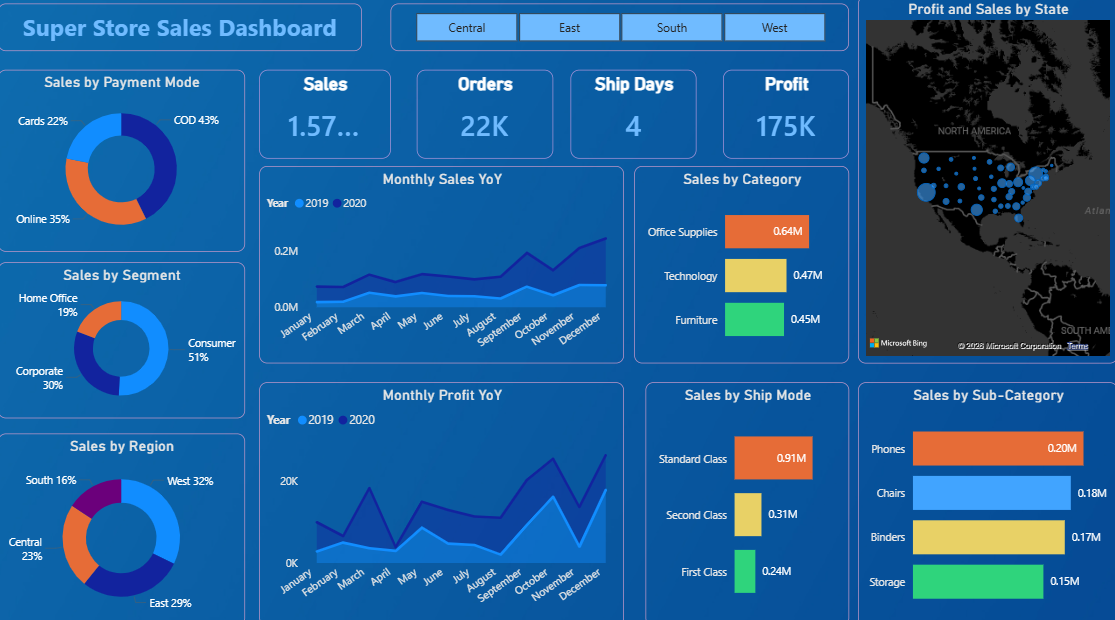

The page's visual inventory and layout, read from the dashboard file:
{"tool":"powerbi","page":{"name":"Page 1","canvas":[1280,720],"ordinal":0},"visuals":[{"type":"clusteredBarChart","title":"Sales by Category","fields":{"Category":["Sheet1 (2).Category"],"Y":["Sum(Sheet1 (2).Sales)"]},"box":[727.1,194.3,245.7,225.7],"z":0},{"type":"clusteredBarChart","title":"Sales by Sub-Category","fields":{"Category":["Sheet1 (2).Sub-Category"],"Y":["Sum(Sheet1 (2).Sales)"]},"box":[982.9,441.4,297.1,278.6],"z":1000},{"type":"clusteredBarChart","title":"Sales by Ship Mode","fields":{"Category":["Sheet1 (2).Ship Mode"],"Y":["Sum(Sheet1 (2).Sales)"]},"box":[740,441.4,232.9,278.6],"z":2000},{"type":"stackedAreaChart","title":"Monthly Sales YoY","fields":{"Category":["Sheet1 (2).Order Date.Variation.Date Hierarchy.Month"],"Y":["Sum(Sheet1 (2).Sales)"],"Series":["Sheet1 (2).Order Date.Variation.Date Hierarchy.Year"]},"box":[298.6,194.3,417.1,225.7],"z":3000},{"type":"stackedAreaChart","title":"Monthly Profit YoY","fields":{"Category":["Sheet1 (2).Order Date.Variation.Date Hierarchy.Month"],"Series":["Sheet1 (2).Order Date.Variation.Date Hierarchy.Year"],"Y":["Sum(Sheet1 (2).Profit)"]},"box":[298.6,441.4,417.1,278.6],"z":4000},{"type":"map","title":"Profit and Sales by State","fields":{"Category":["Sheet1 (2).State"],"Size":["Sum(Sheet1 (2).Sales)"]},"box":[982.9,0,297.1,420],"z":5000},{"type":"donutChart","title":"Sales by Segment","fields":{"Category":["Sheet1 (2).Segment"],"Y":["CountNonNull(Sheet1 (2).State)"]},"box":[0,304,282,178],"z":6000},{"type":"donutChart","title":"Sales by Payment Mode","fields":{"Category":["Sheet1 (2).Payment Mode"],"Y":["Sum(Sheet1 (2).Sales)"]},"box":[0,84,282,208],"z":7000},{"type":"slicer","fields":{"Values":["Sheet1 (2).Region"]},"box":[448.6,8.6,524.3,54.3],"z":8000},{"type":"textbox","box":[0,8,416,54],"z":9000},{"type":"cardVisual","title":"Sales","fields":{"Data":["Sum(Sheet1 (2).Sales)"]},"box":[298.6,84.3,150,101.4],"z":10000},{"type":"cardVisual","title":"Orders","fields":{"Data":["Sum(Sheet1 (2).Quantity)"]},"box":[478.6,84.3,155.7,101.4],"z":11000},{"type":"cardVisual","title":"Profit","fields":{"Data":["Sum(Sheet1 (2).Profit)"]},"box":[828.6,84.3,144.3,101.4],"z":12000},{"type":"cardVisual","title":"Ship Days","fields":{"Data":["Avg(Sheet1 (2).AvgDelivery)"]},"box":[654.3,84.3,144.3,101.4],"z":13000},{"type":"donutChart","title":"Sales by Region","fields":{"Category":["Sheet1 (2).Region"],"Y":["CountNonNull(Sheet1 (2).State)"]},"box":[0,500,282,220],"z":14000}]}

Visuals, with their boxes in screenshot pixels (x1, y1, x2, y2), scaled from the page's 1280x720 canvas onto the 1115x620 screenshot:
"Sales by Category" clusteredBarChart: BBox(633, 167, 847, 362)
"Sales by Sub-Category" clusteredBarChart: BBox(856, 380, 1114, 619)
"Sales by Ship Mode" clusteredBarChart: BBox(645, 380, 847, 619)
"Monthly Sales YoY" stackedAreaChart: BBox(260, 167, 623, 362)
"Monthly Profit YoY" stackedAreaChart: BBox(260, 380, 623, 619)
"Profit and Sales by State" map: BBox(856, 0, 1114, 362)
"Sales by Segment" donutChart: BBox(0, 262, 246, 415)
"Sales by Payment Mode" donutChart: BBox(0, 72, 246, 251)
slicer - Sheet1 (2).Region: BBox(391, 7, 847, 54)
textbox: BBox(0, 7, 362, 53)
"Sales" cardVisual: BBox(260, 73, 391, 160)
"Orders" cardVisual: BBox(417, 73, 553, 160)
"Profit" cardVisual: BBox(722, 73, 847, 160)
"Ship Days" cardVisual: BBox(570, 73, 696, 160)
"Sales by Region" donutChart: BBox(0, 431, 246, 619)
